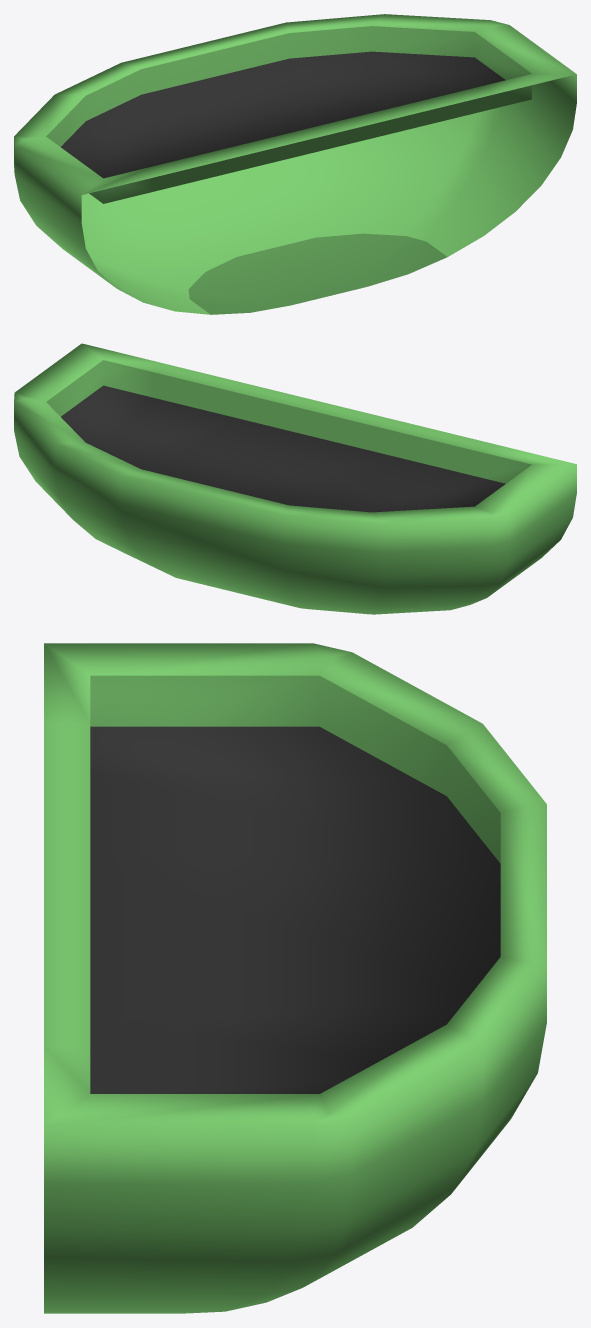
Rendered from mural_torch2.fbx.
3 renders of one model, top to bottom at view 1: azimuth 30°, elevation 25°; view 2: azimuth 150°, elevation 25°; view 3: azimuth 270°, elevation 25°, orthographic. The views are drawn at different scales.
Parts seen in each view (by area): view 1: MuralTorch2; view 2: MuralTorch2; view 3: MuralTorch2.
Boxes of the visible parts, box(x1,y1,x2,y2) form: MuralTorch2: box(14, 14, 576, 314); MuralTorch2: box(14, 343, 576, 614); MuralTorch2: box(44, 643, 546, 1313).
Size of the model in its own units: 20.65 by 6.43 by 9.08.
